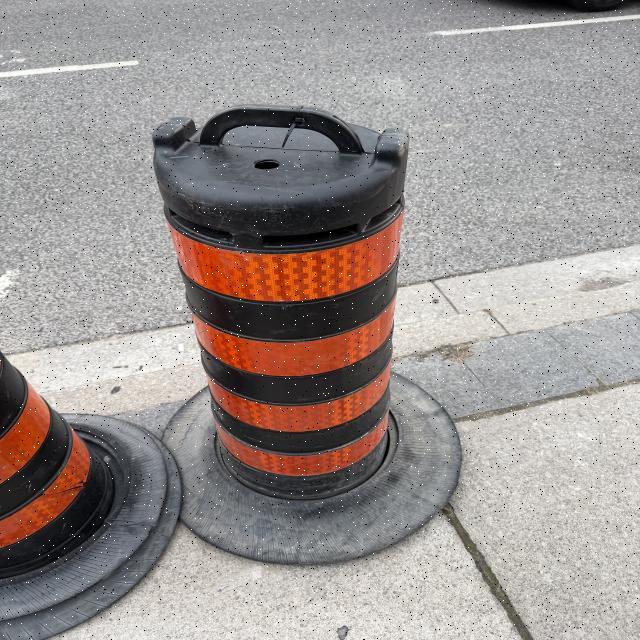Teraffic Barrel: (153, 105, 460, 563), (0, 354, 180, 640)
